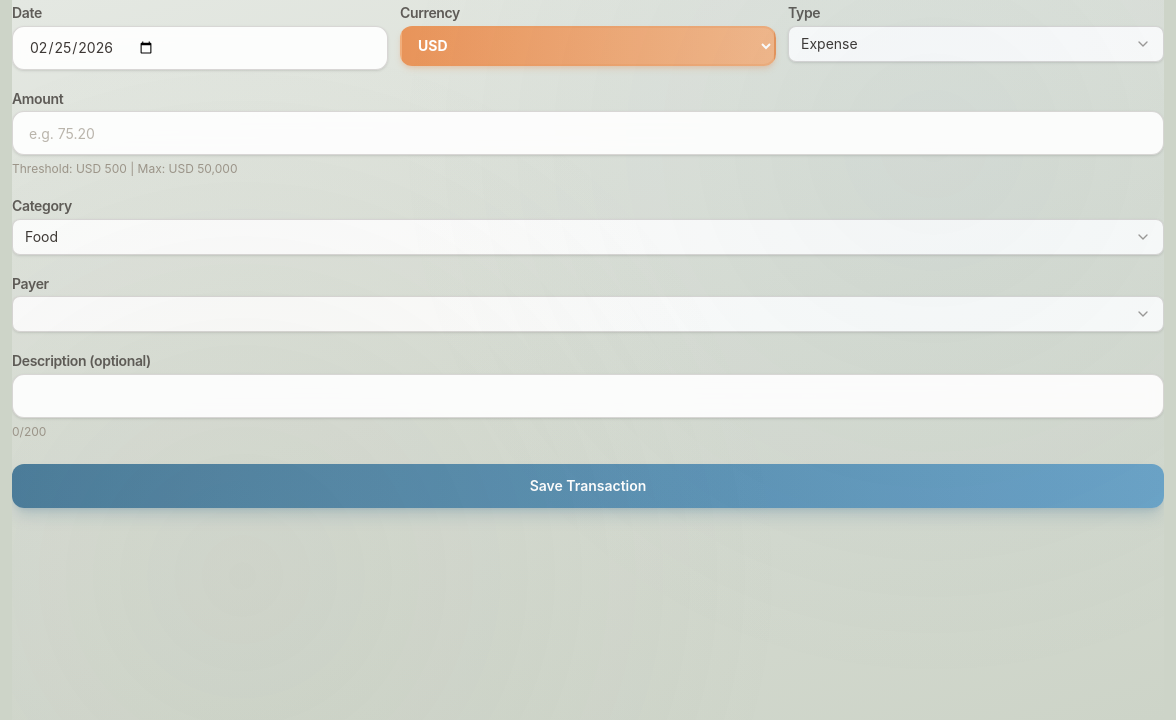
Test: QuickAddForm › Amount validation › shows error when amount is empty on submit
Step 1. Click the button "Save Transaction" → (588, 486), box top-left (12, 464), bottom-right (1164, 508)
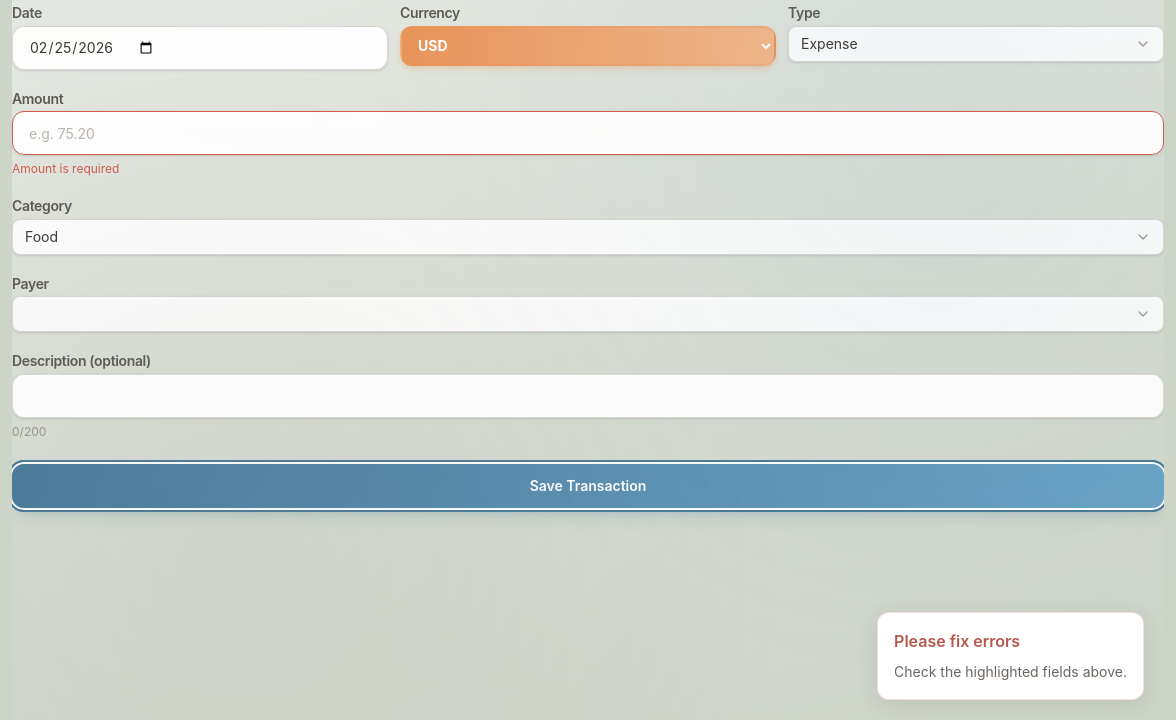
Expected: the text "Amount is required" is shown, top-left (12, 161), bottom-right (119, 176)
